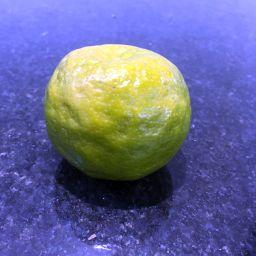orange: (42, 44, 193, 183)
